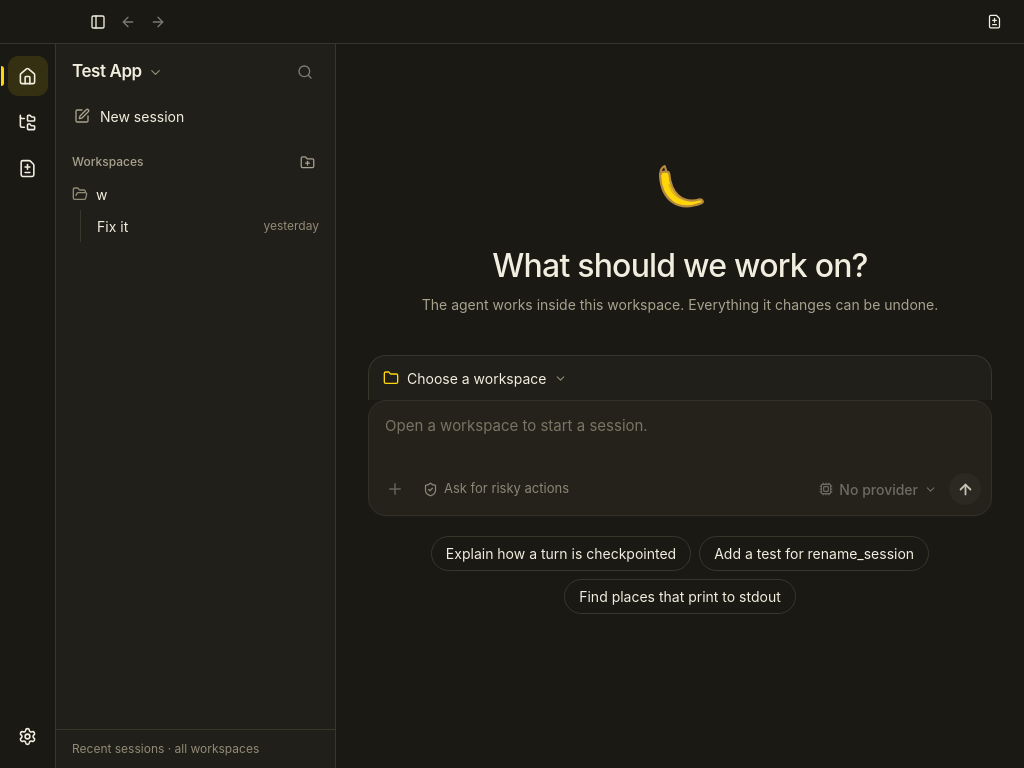
Test: the trust dialog › a config that does not parse shows the warning and cannot be trusted
The width and height of the screenshot is (1024, 768).
Expected: the text "Fix it" is shown, [97,218,128,234]
Click the button named "Open folder" at (307, 162), box [295,150,319,174]
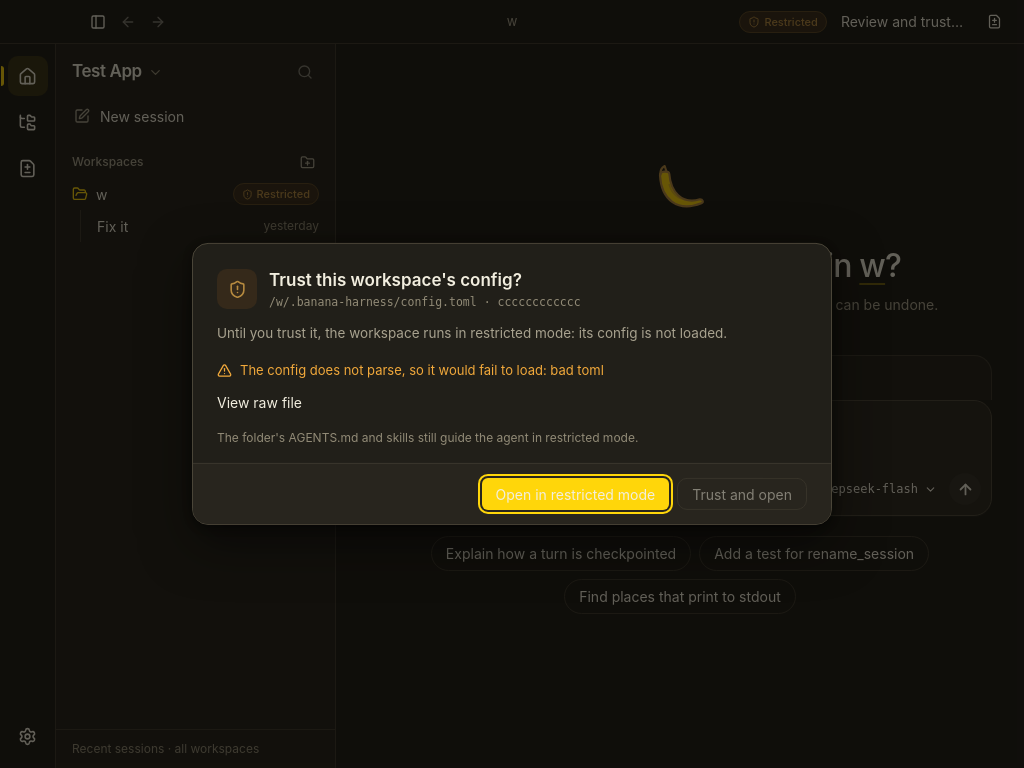
Result: the message shows "bad toml" at [550,362,604,378]
Result: the button "Trust and open" is disabled at [677,478,807,510]
